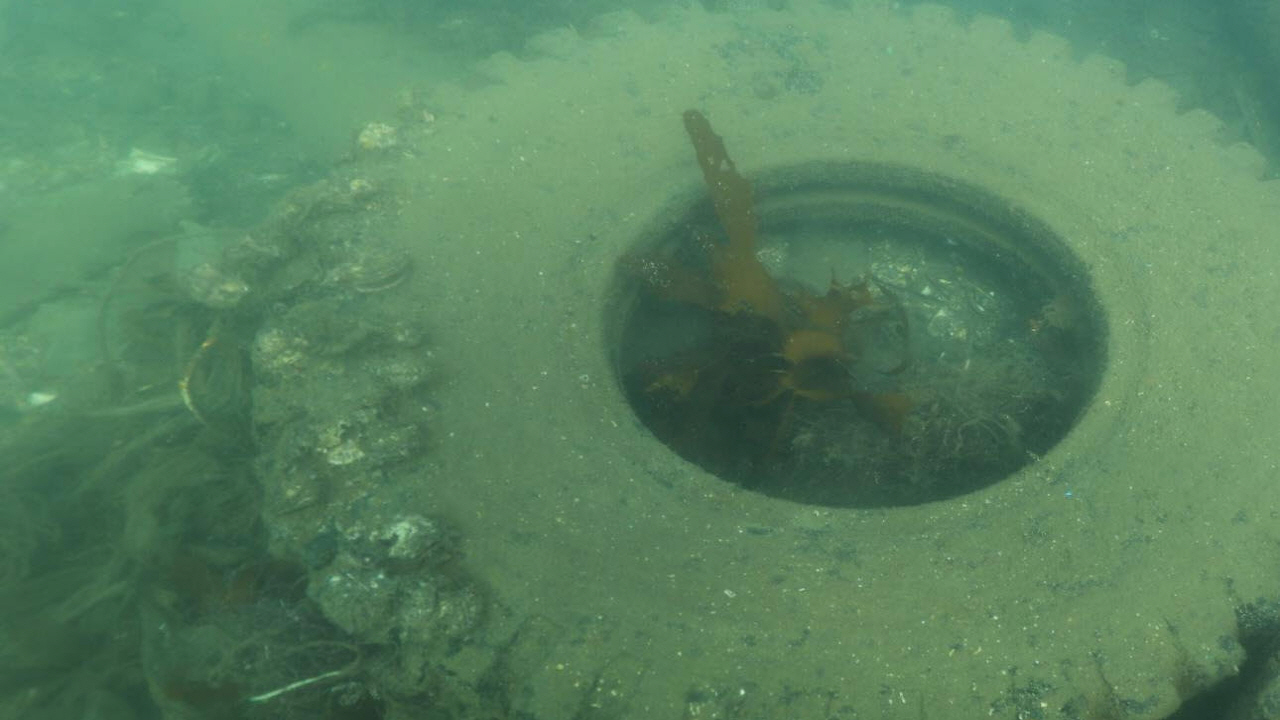tire: (353, 0, 1280, 720)
